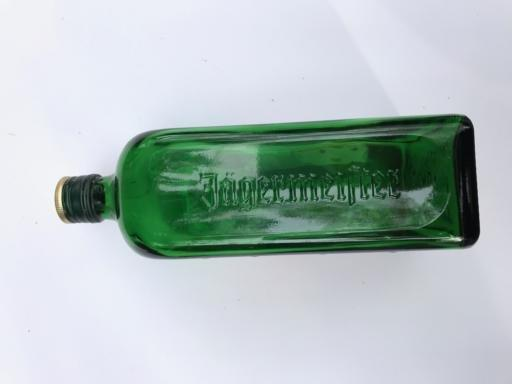botolkaca: (54, 112, 480, 257)
